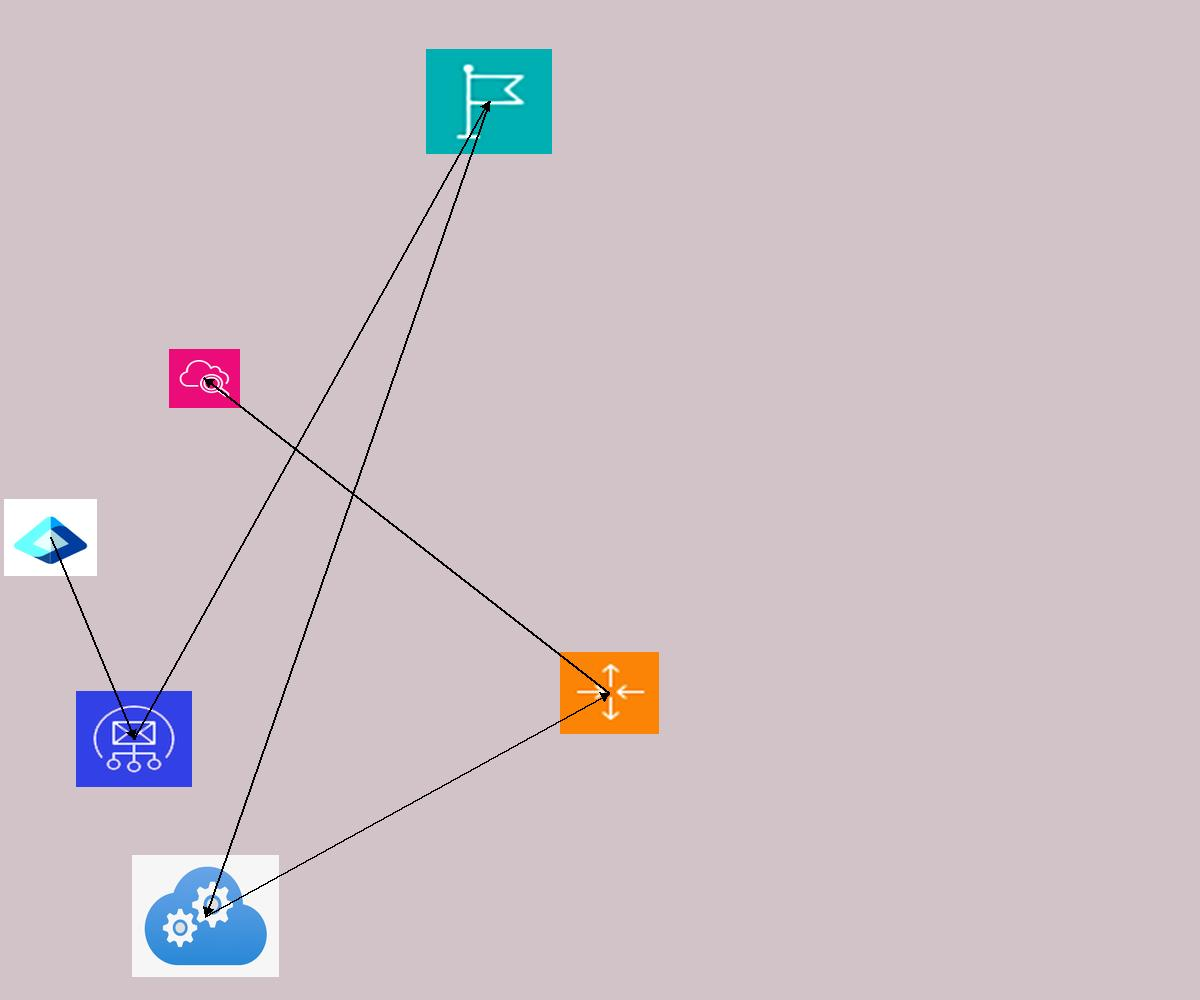AWS-CloudWatch: (169, 349, 240, 408)
AWS-Region: (426, 49, 552, 154)
AWS-Scaling-group: (560, 652, 659, 734)
AWS-Simple-Email-Service: (76, 691, 192, 787)
Azure_cloud_services: (132, 855, 279, 977)
Azure_microsoft_entra: (4, 499, 97, 576)
